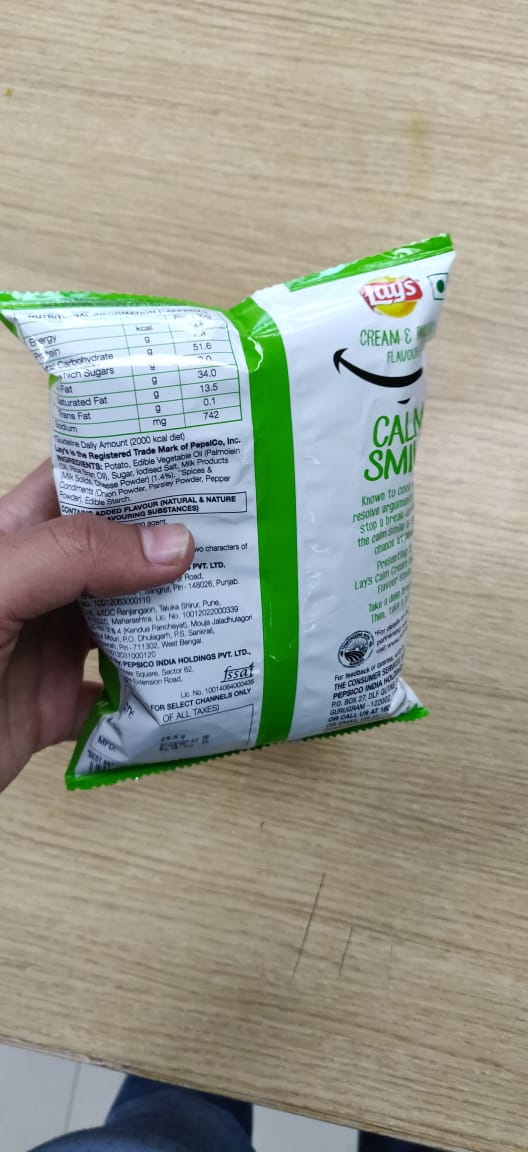lays chips: (5, 218, 464, 795)
